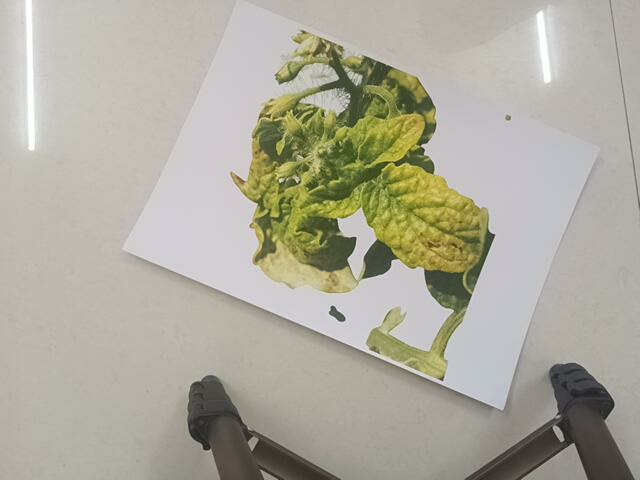Tomamto_Leaf_curl_virus: (250, 33, 483, 380)
